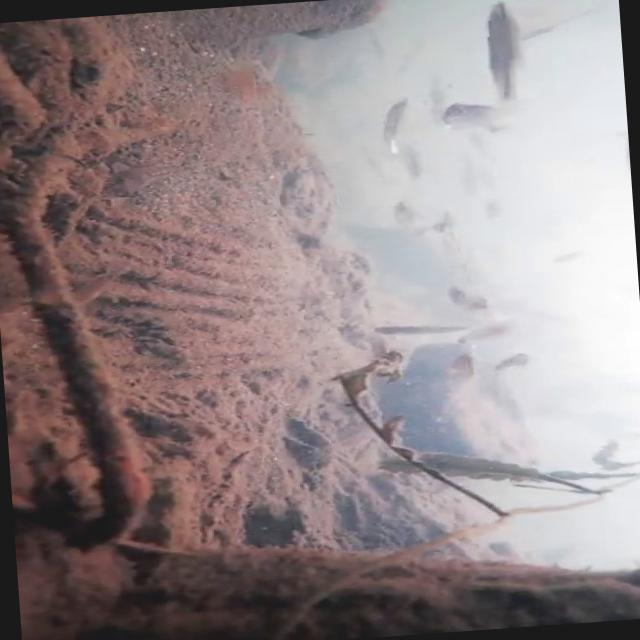Cakil Baligi: (482, 0, 537, 95), (440, 98, 512, 136), (375, 95, 422, 148), (372, 316, 472, 339), (388, 198, 426, 223), (496, 349, 537, 372)
